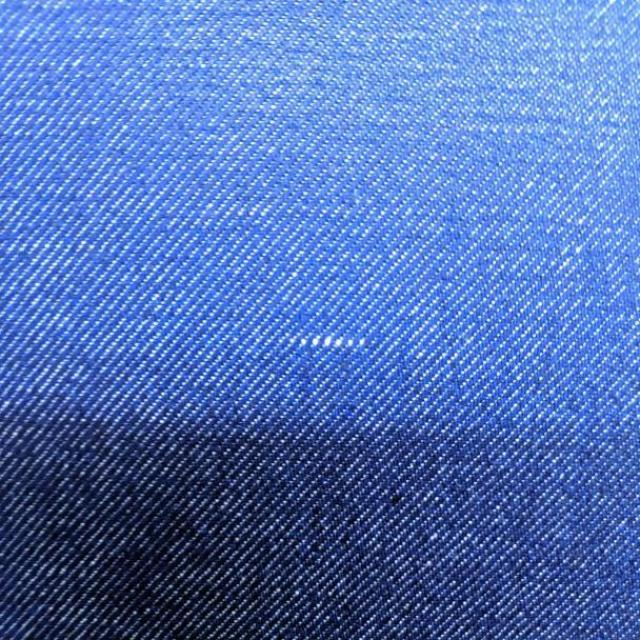Knot: (289, 335, 367, 350)
